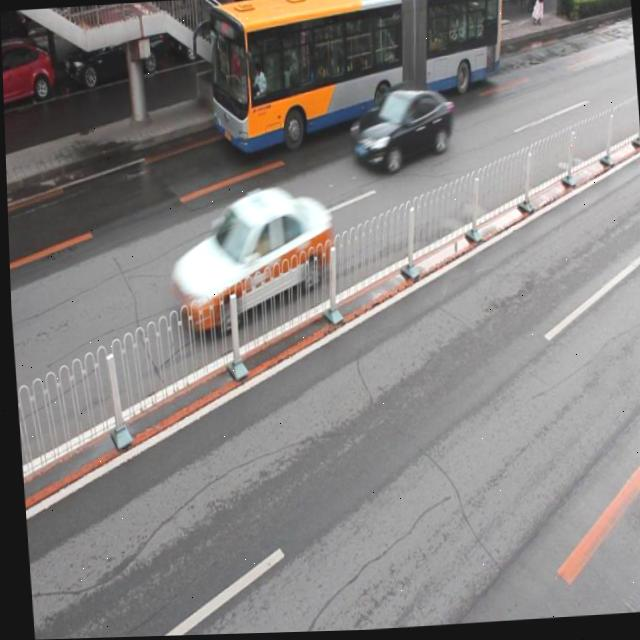car: (162, 181, 334, 334), (346, 83, 455, 176), (60, 14, 163, 83), (169, 0, 243, 64), (1, 35, 54, 110), (259, 0, 334, 49)
van: (205, 0, 509, 153)
